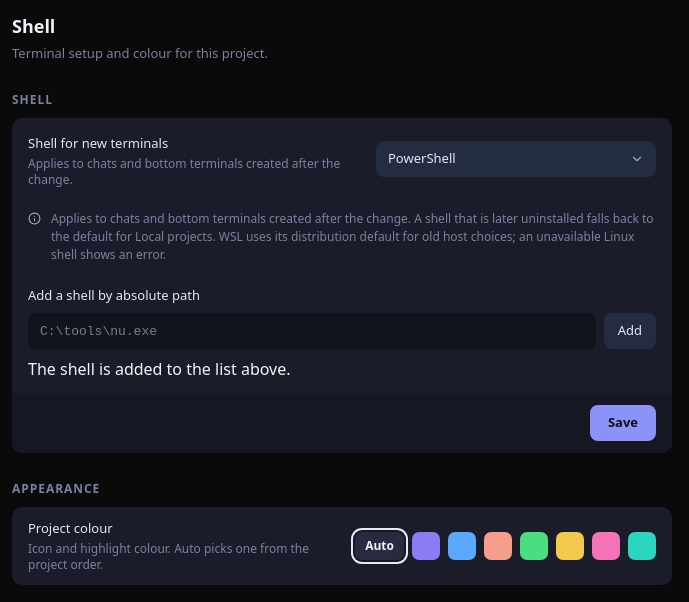
Test: ShellTab › displays saveError when project color saving fails
The width and height of the screenshot is (689, 602).
Check: the element with test id "settings-project-color-section" is shown, box [12,507,672,584]
What coordinates should you click on to do the following:
click the radio button with test id "project-color-#5AA9FF"
I would click on:
 (462, 546)
Its box is [448,532,476,560].
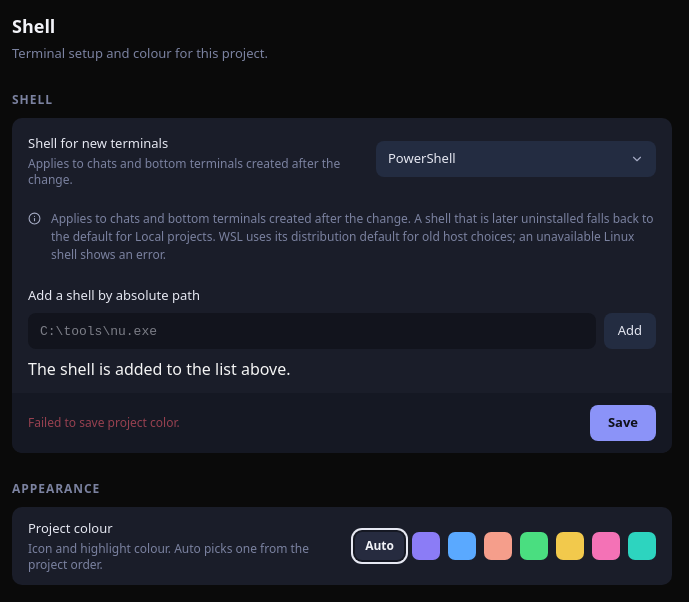
Check: the text "Failed to save project color." is shown, box [28,414,180,431]
